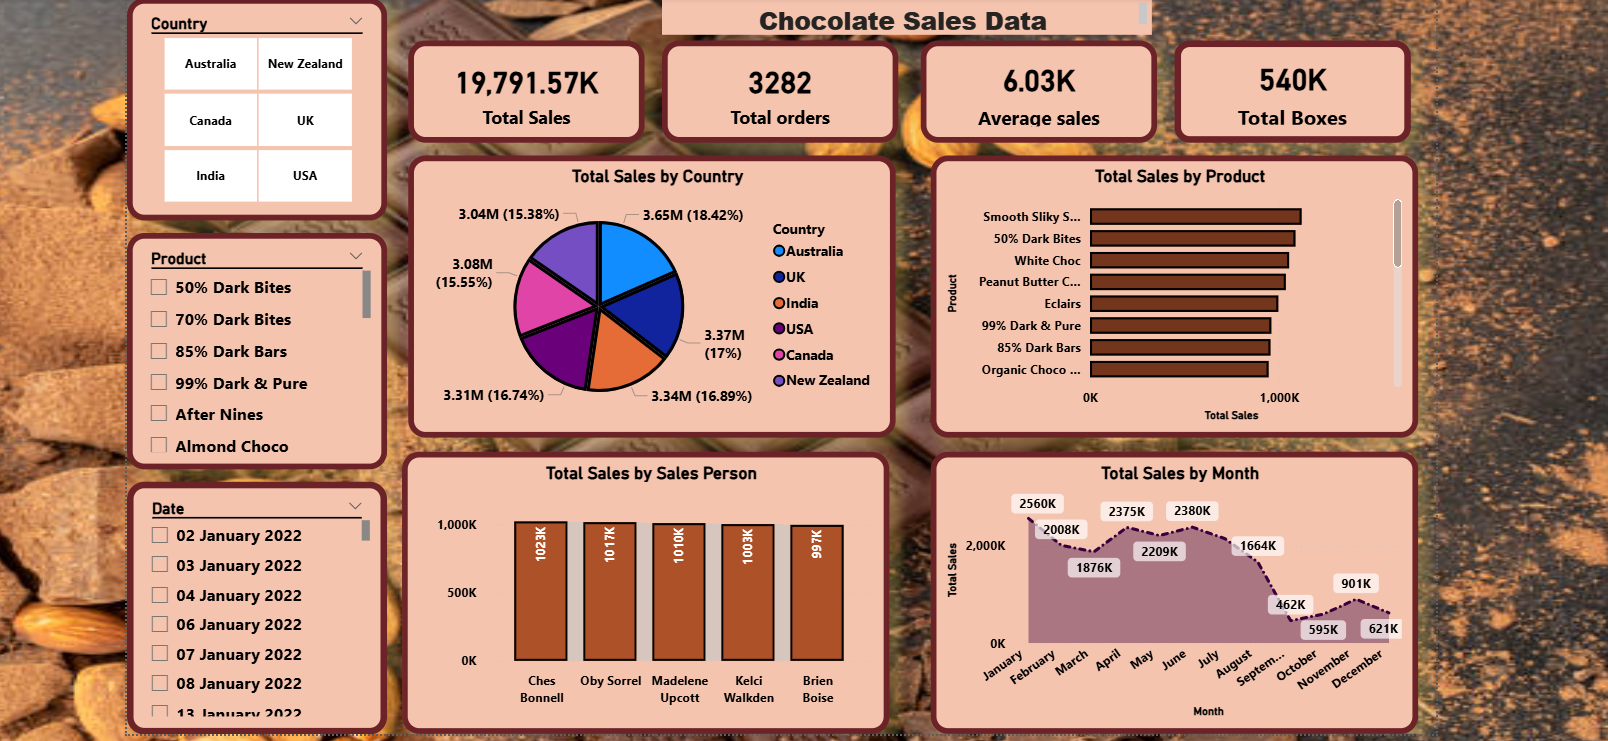

This screenshot's page, from the dashboard's own definition file:
{"tool":"powerbi","page":{"name":"Page 1","canvas":[1280,720],"ordinal":0},"visuals":[{"type":"card","fields":{"Values":["Chocolate_sales.Total Sales"]},"box":[275.1,41.6,231.1,100.3],"z":0},{"type":"card","fields":{"Values":["Chocolate_sales.Total orders"]},"box":[523.4,41.6,231.1,100.3],"z":1000},{"type":"card","fields":{"Values":["Chocolate_sales.Average sales"]},"box":[776.5,41.6,231.1,100.3],"z":2000},{"type":"card","fields":{"Values":["Chocolate_sales.Total Boxes"]},"box":[1024.7,41.6,231.1,100.3],"z":3000},{"type":"pieChart","fields":{"Category":["Chocolate_sales.Country"],"Y":["Chocolate_sales.Total Sales"]},"box":[275.1,154.1,476.9,276.4],"z":4000},{"type":"clusteredBarChart","fields":{"Category":["Chocolate_sales.Product"],"Y":["Chocolate_sales.Total Sales"]},"box":[786.3,154.1,476.9,276.4],"z":5000},{"type":"columnChart","fields":{"Category":["Chocolate_sales.Sales Person"],"Y":["Chocolate_sales.Total Sales"]},"box":[269,443.9,476.9,276.4],"z":6000},{"type":"slicer","fields":{"Values":["Chocolate_sales.Country"]},"box":[0,0,254.3,217.7],"z":7000},{"type":"slicer","fields":{"Values":["Chocolate_sales.Product"]},"box":[0,229.9,254.3,231.1],"z":8000},{"type":"slicer","fields":{"Values":["Chocolate_sales.Date"]},"box":[0,473.2,254.3,247],"z":9000},{"type":"textbox","box":[523.4,0,479,36],"z":10000},{"type":"lineChart","fields":{"Category":["Date Table.Month"],"Y":["Chocolate_sales.Total Sales"]},"box":[786,444,477,276],"z":11000}]}

Visuals, with their boxes in screenshot pixels (x1, y1, x2, y2):
card - Chocolate_sales.Total Sales: box=[405, 38, 640, 140]
card - Chocolate_sales.Total orders: box=[657, 38, 892, 140]
card - Chocolate_sales.Average sales: box=[914, 38, 1149, 140]
card - Chocolate_sales.Total Boxes: box=[1166, 38, 1401, 140]
pieChart - Chocolate_sales.Country x Chocolate_sales.Total Sales: box=[405, 152, 889, 433]
clusteredBarChart - Chocolate_sales.Product x Chocolate_sales.Total Sales: box=[924, 152, 1408, 433]
columnChart - Chocolate_sales.Sales Person x Chocolate_sales.Total Sales: box=[399, 446, 883, 727]
slicer - Chocolate_sales.Country: box=[126, 0, 384, 217]
slicer - Chocolate_sales.Product: box=[126, 229, 384, 464]
slicer - Chocolate_sales.Date: box=[126, 476, 384, 727]
textbox: box=[657, 0, 1143, 32]
lineChart - Date Table.Month x Chocolate_sales.Total Sales: box=[924, 447, 1408, 727]
